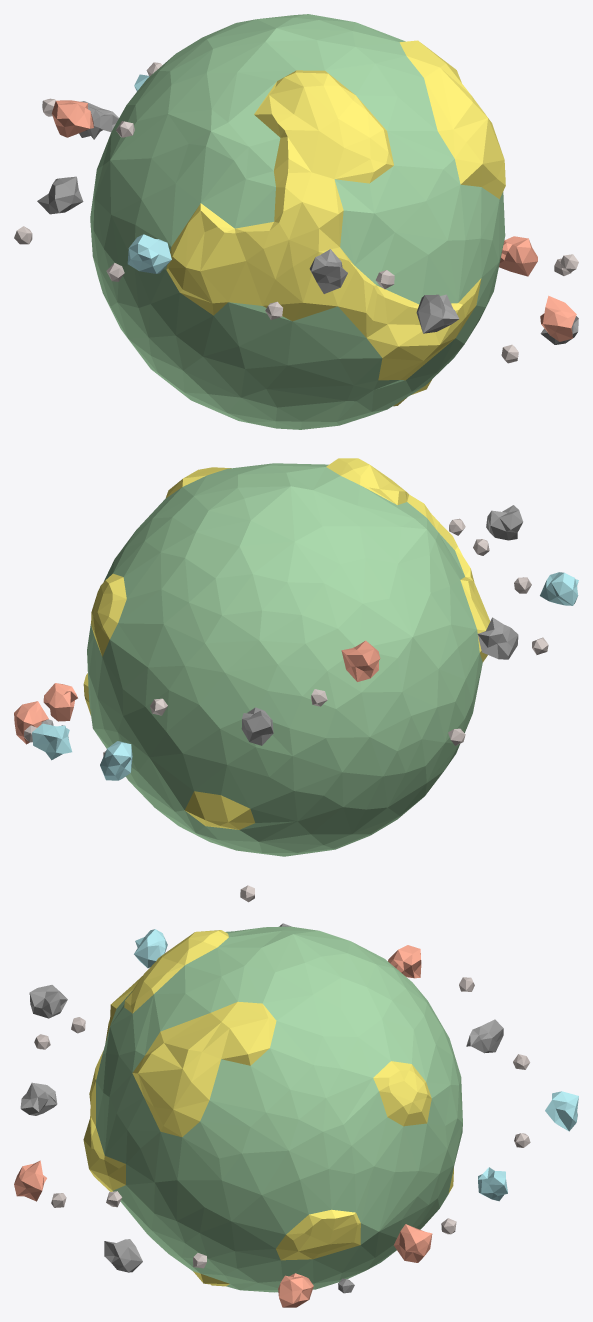
The model's file is Planet_28.glb.
The picture shows the model from 3 angles, top to bottom: view 1: azimuth 30°, elevation 25°; view 2: azimuth 150°, elevation 25°; view 3: azimuth 270°, elevation 25°; orthographic projection. The views are drawn at different scales.
Parts seen in each view (by area): view 1: Planet_28; view 2: Planet_28; view 3: Planet_28.
Boxes of the visible parts, x1,y1,x2,y2 form: Planet_28: (14, 14, 578, 429); Planet_28: (14, 458, 578, 856); Planet_28: (14, 885, 578, 1307).
Size of the model in its own units: 27.63 by 20.22 by 30.93.
Materials: 1 (1 with a texture image).
